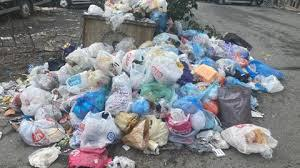Container: (78, 14, 155, 50)
Garbage: (0, 49, 282, 168), (112, 108, 177, 154), (198, 31, 253, 83), (70, 102, 119, 146), (16, 114, 67, 152), (179, 68, 211, 125), (77, 0, 169, 19), (97, 74, 138, 114), (225, 52, 269, 89), (76, 63, 112, 100), (152, 43, 181, 85), (20, 81, 52, 117), (71, 145, 103, 168), (105, 3, 128, 30), (86, 44, 117, 59), (154, 32, 179, 48), (120, 37, 139, 54), (151, 9, 167, 29), (87, 1, 105, 16), (142, 39, 154, 52)
